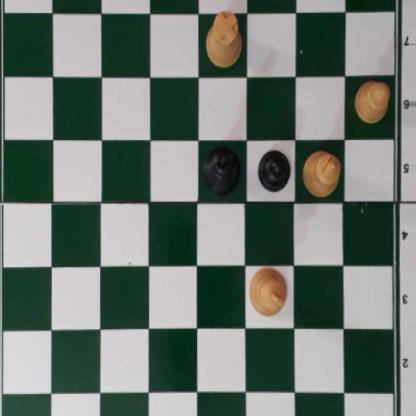black-king: (201, 145, 242, 197)
black-pawn: (258, 146, 289, 192)
white-bishop: (302, 148, 342, 198)
white-king: (246, 264, 288, 318)
white-pawn: (354, 78, 390, 124)
white-rook: (205, 13, 243, 67)
